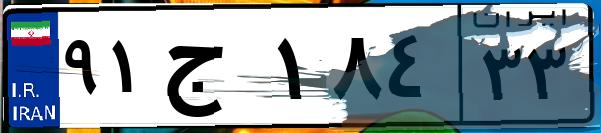1: (270, 28, 330, 110), (110, 28, 158, 98)
3: (475, 38, 525, 113), (525, 38, 570, 115)
4: (385, 28, 445, 110)
8: (330, 28, 385, 110)
9: (57, 26, 110, 100)
ج: (158, 20, 270, 120)
